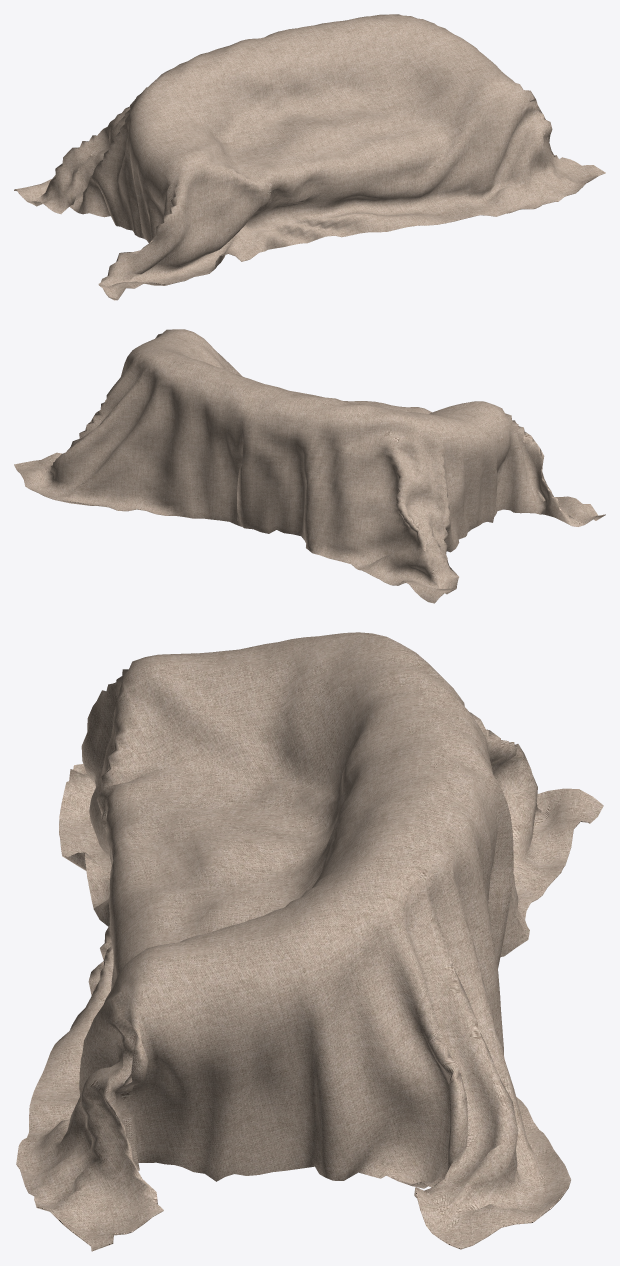
File: sofa_linen.glb
3 views of the same model, one above another, from view 1: azimuth 30°, elevation 25°; view 2: azimuth 150°, elevation 25°; view 3: azimuth 270°, elevation 25° (orthographic). The views are drawn at different scales.
Visible parts, largest first — view 1: Shdourded Couch; view 2: Shdourded Couch; view 3: Shdourded Couch.
Part boxes in pixels (bbox=[...]): Shdourded Couch: bbox=[14, 14, 605, 300]; Shdourded Couch: bbox=[14, 329, 605, 603]; Shdourded Couch: bbox=[16, 632, 603, 1251].
Size of the model in its own units: 2.4 by 0.6396 by 1.23.
Materials: 1 (1 with a texture image).
